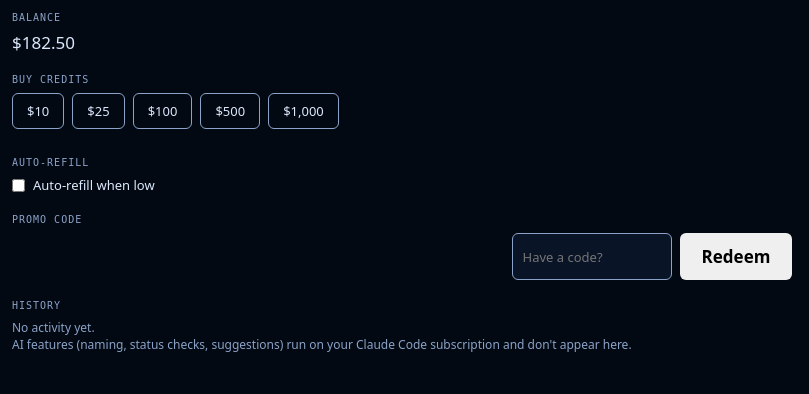
Test: auto-refill block › keeps the toggle at server state and shows an alert when the save fails
This screenshot has width=809, height=394.
Click the checkbox labelled "Auto-refill when low".
click(18, 185)  # box [12, 178, 25, 192]
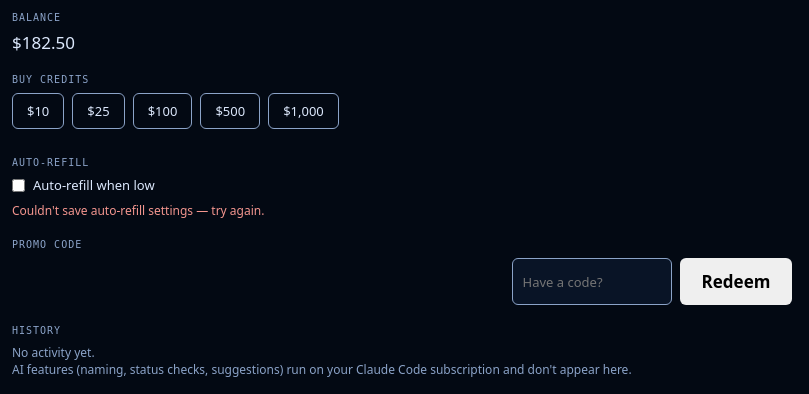
Expected: the text "Couldn't save auto-refill settings — try again." is shown, [12, 202, 264, 219]
